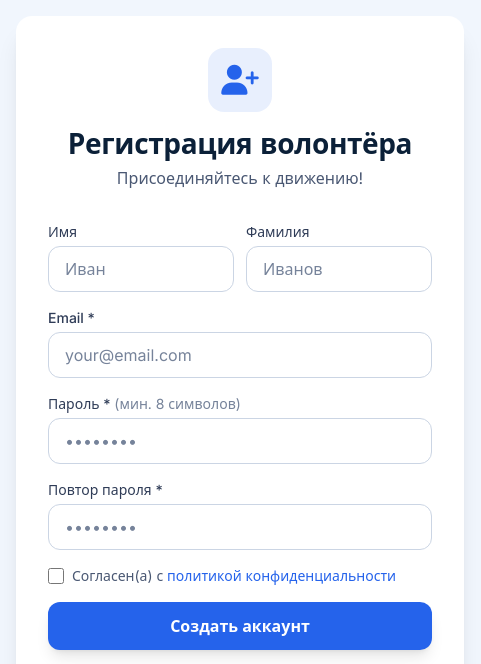
Test: RegisterPage › 400 validation shapes are shown as readable text, not as the technical title
This screenshot has width=481, height=664.
Type "  new.user@example.test " into the field with placeholder "your@email.com" at x=240, y=355, box [48,332,432,378]
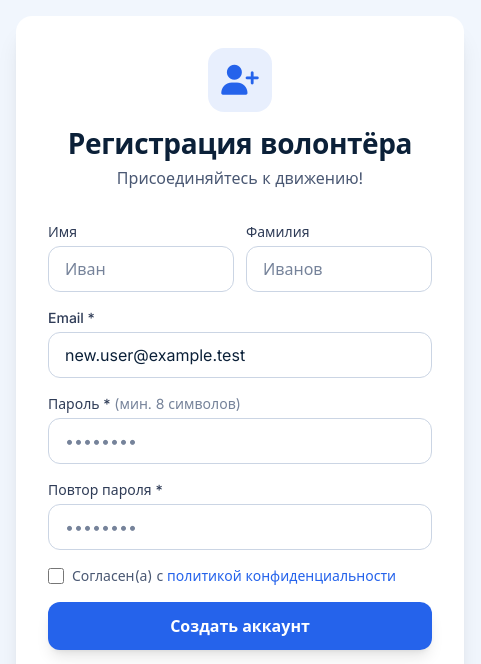
Type "Passw0rd-123" into the password field with placeholder "••••••••" below "Пароль *" at x=240, y=441, box [48,418,432,464]
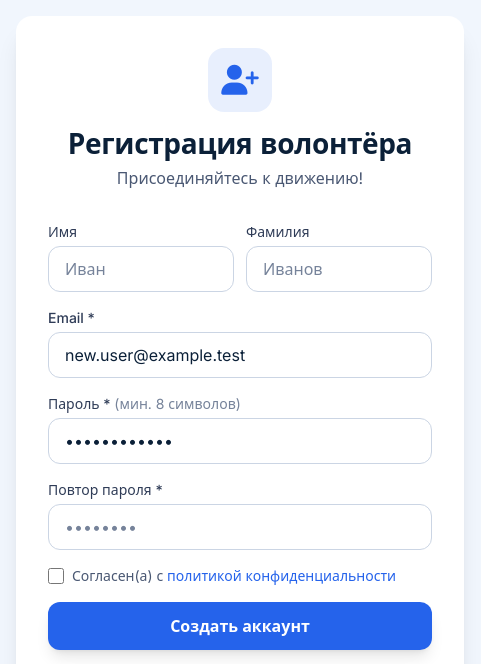
Type "Passw0rd-123" into the password field with placeholder "••••••••" at x=240, y=527, box [48,504,432,550]
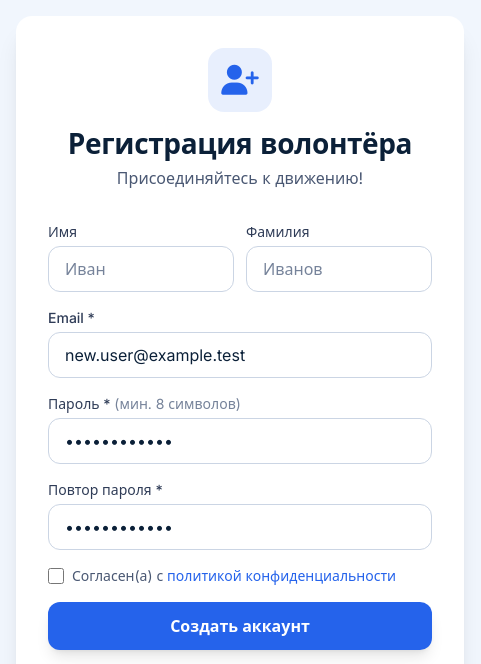
Click the checkbox at x=56, y=576, box [48,568,64,584]
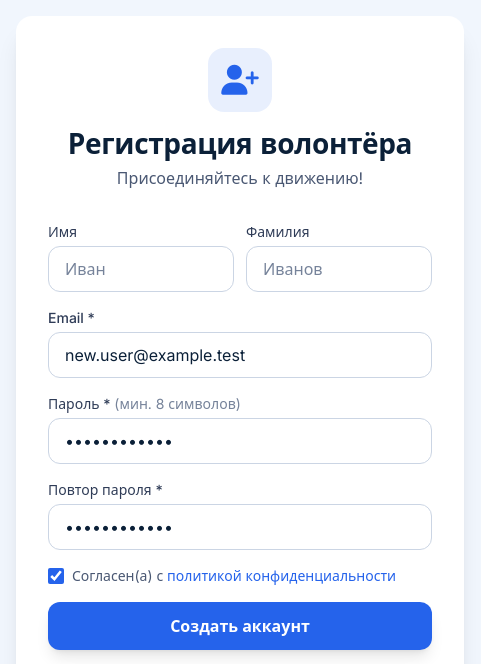
Click the button "Создать аккаунт" at x=240, y=626, box [48,602,432,650]
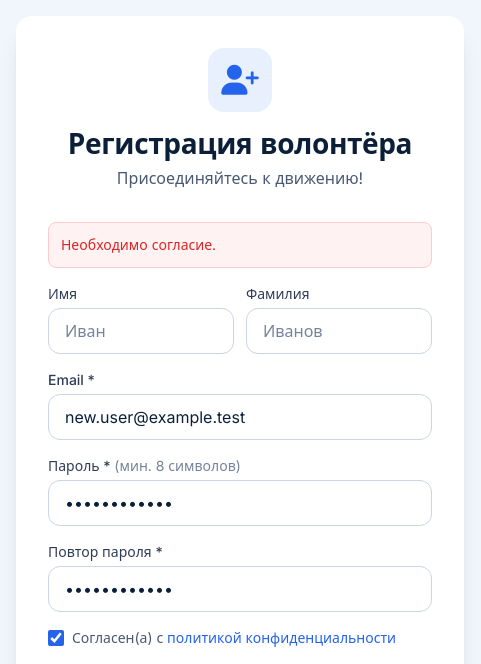
Expected: the text "Необходимо согласие." is shown, [48,222,432,268]
